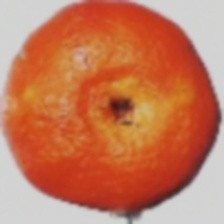tangerine: (36, 6, 191, 201)
